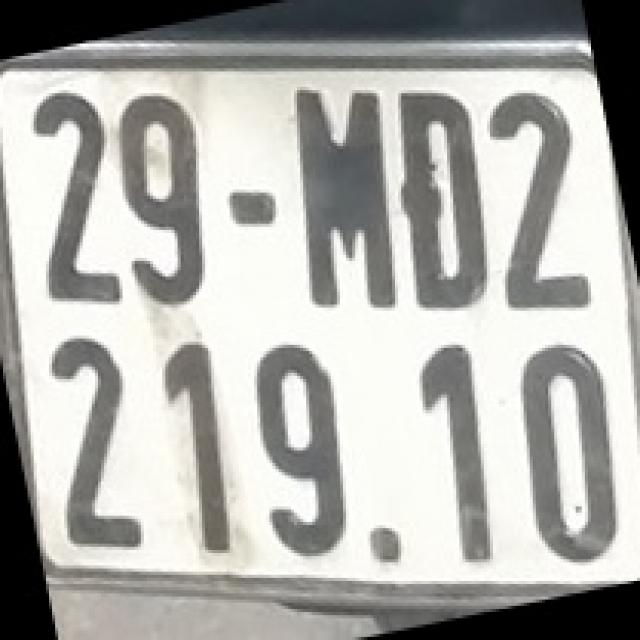0: (518, 336, 624, 566)
1: (410, 342, 502, 568), (156, 336, 242, 559)
2: (490, 84, 600, 314), (43, 329, 153, 553), (31, 87, 122, 308)
9: (248, 339, 355, 559), (116, 90, 212, 308)
D: (399, 84, 492, 320)
M: (291, 74, 398, 314)
